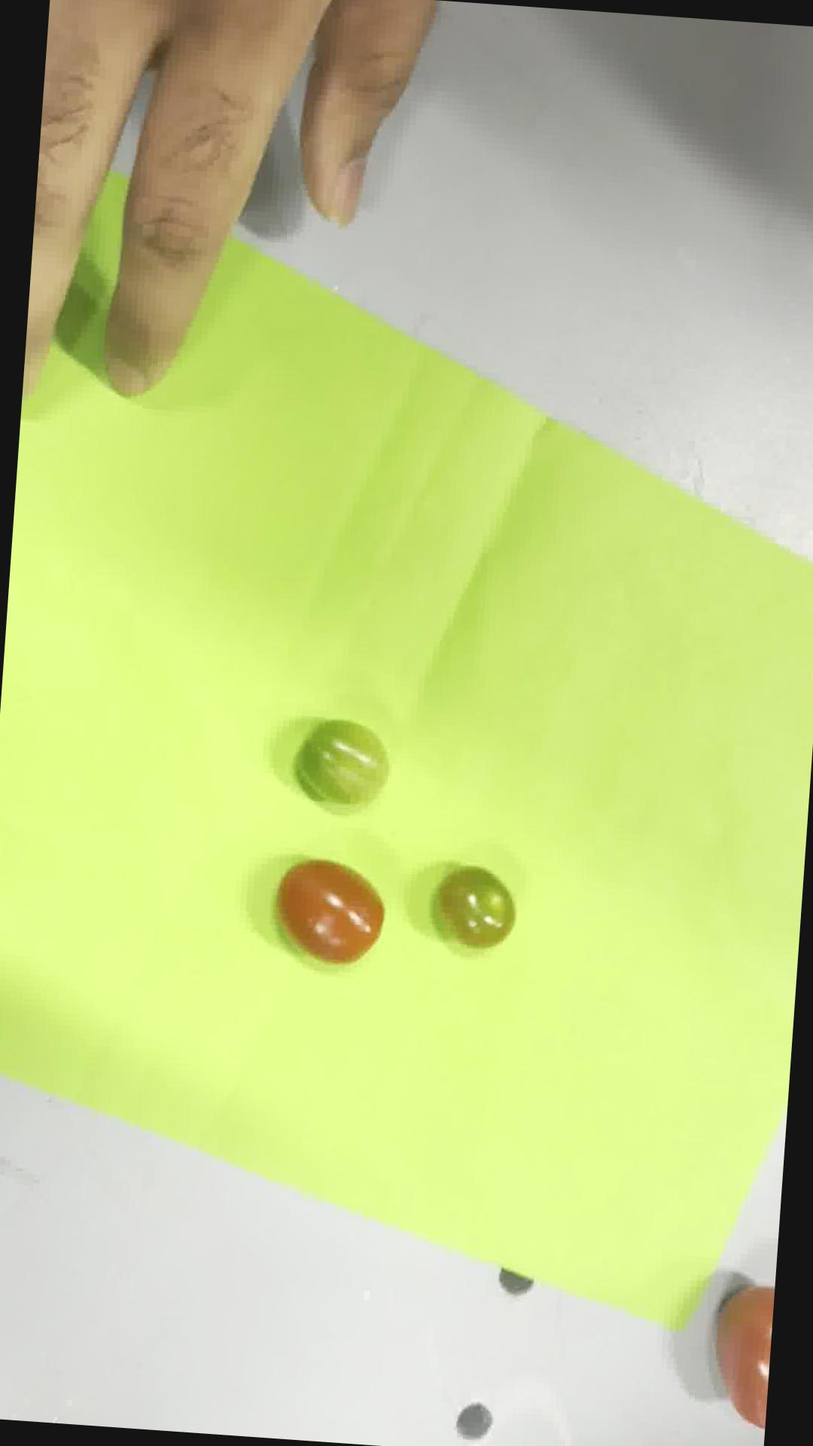green_cherry_tomato: (297, 719, 388, 806)
yellow_cherry_tomato: (277, 860, 384, 963), (436, 867, 515, 949)
